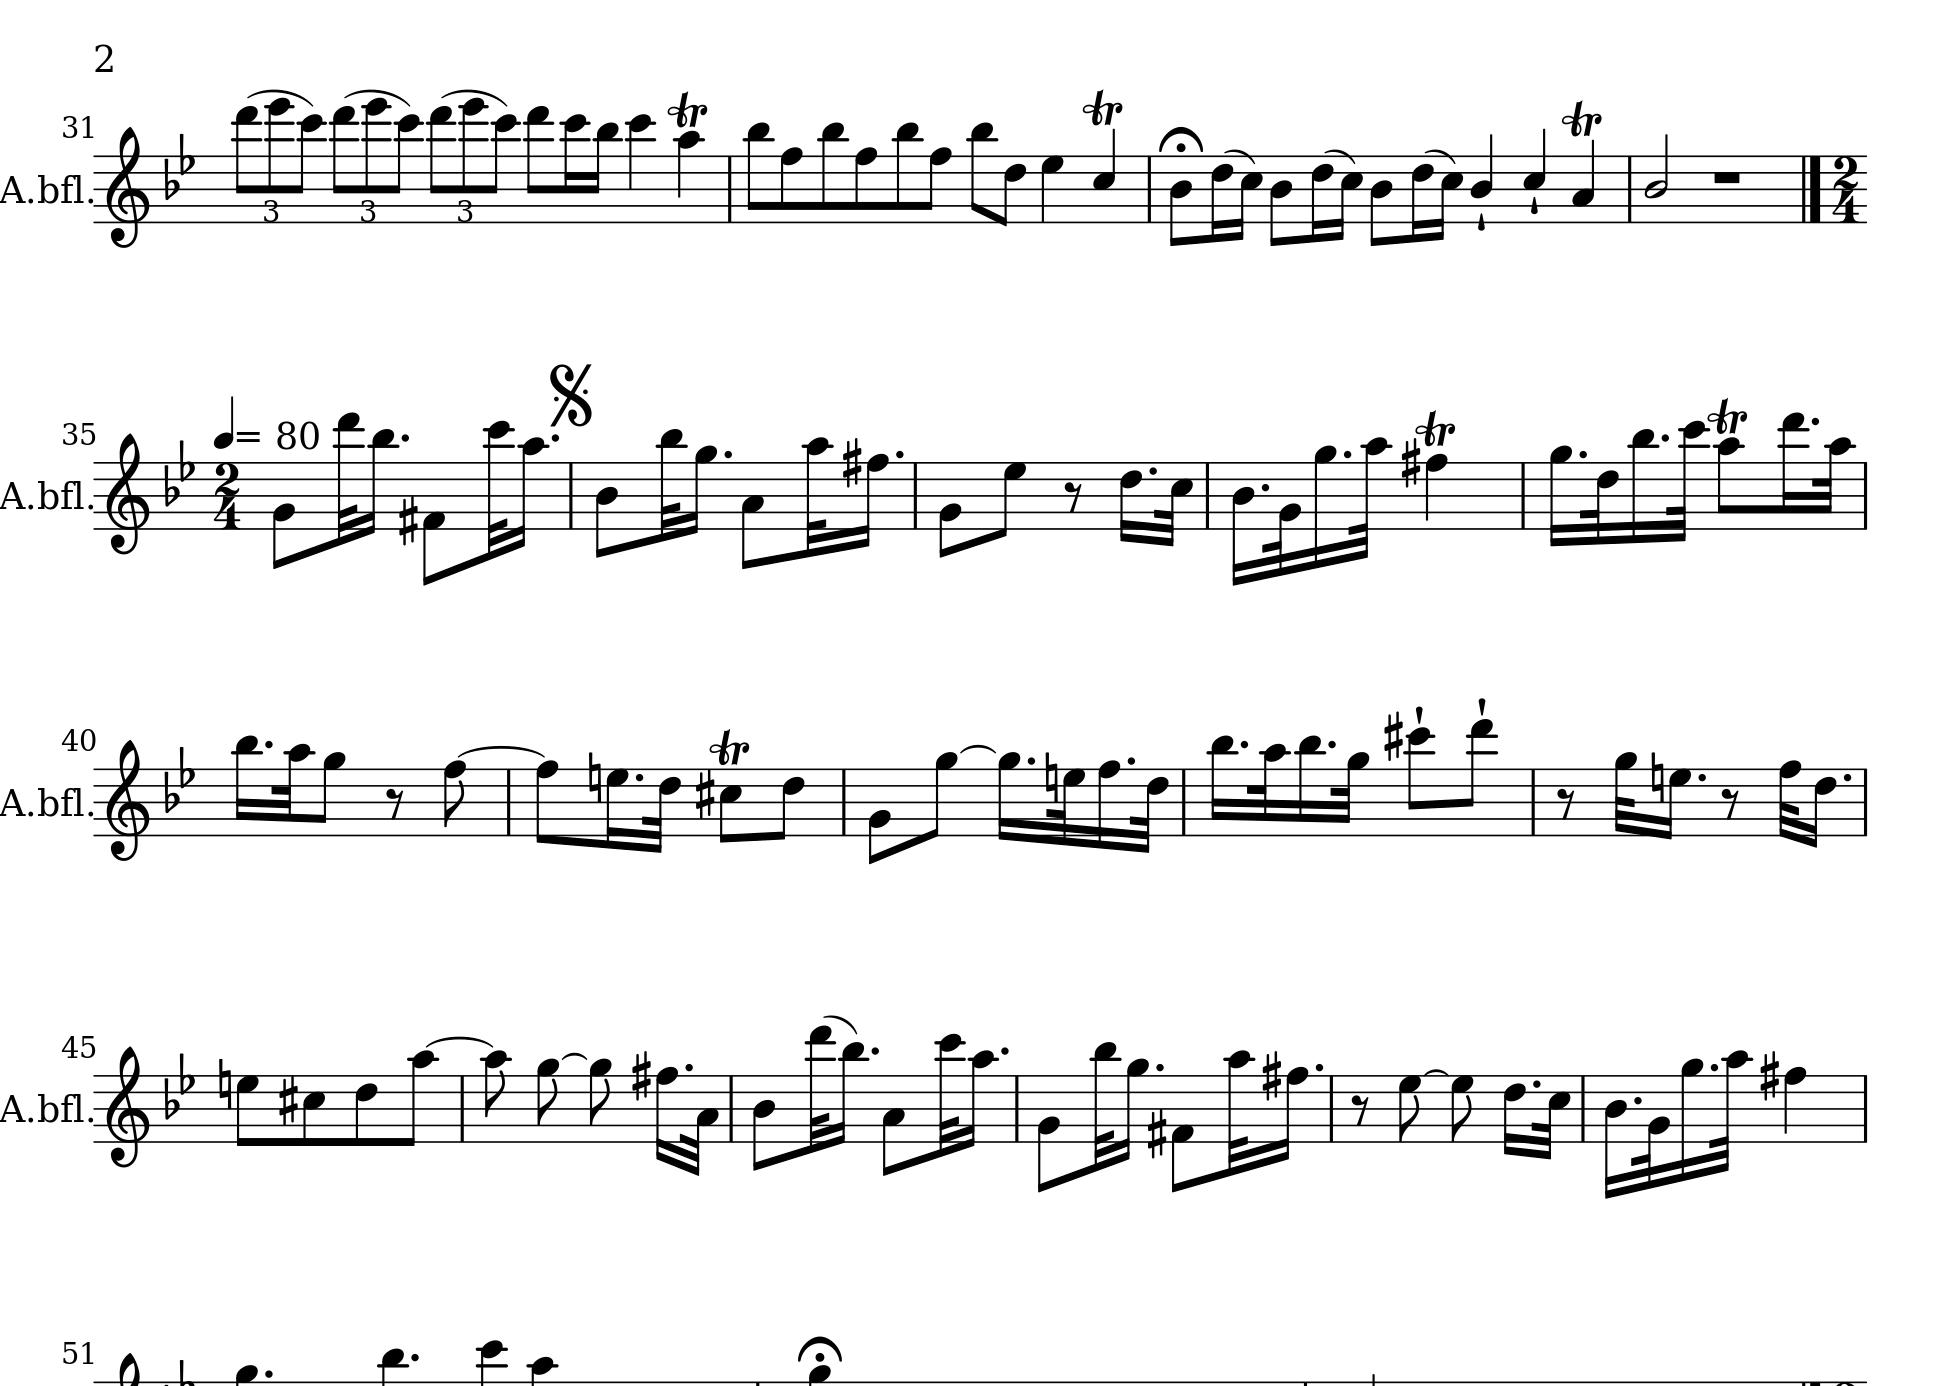0: (297, 418, 321, 451), (79, 724, 97, 753)
1: (79, 1338, 94, 1366), (79, 112, 94, 139)
16_10: (511, 435, 546, 549), (963, 1048, 997, 1150)
16_11: (363, 427, 394, 537), (1629, 426, 1657, 544), (834, 1039, 865, 1146), (589, 121, 621, 225), (1207, 733, 1236, 838), (232, 733, 261, 837), (1296, 732, 1323, 838)
16_12: (561, 112, 589, 223)
16_13: (1779, 411, 1806, 531)
16_4: (1230, 459, 1257, 586), (1603, 1072, 1629, 1198)
16_5: (1434, 154, 1464, 241), (1335, 153, 1363, 241), (1234, 154, 1263, 241)
16_6: (1807, 766, 1837, 849), (1311, 153, 1335, 243), (1410, 153, 1434, 243), (1119, 459, 1143, 544), (1210, 153, 1233, 243), (1503, 1072, 1527, 1156)
16_7: (1660, 766, 1692, 841), (604, 765, 630, 852)
16_8: (853, 453, 889, 549), (1275, 1066, 1308, 1162), (654, 1066, 679, 1162), (1096, 759, 1122, 850)
16_9: (1116, 1054, 1149, 1165), (1680, 1054, 1705, 1182), (1312, 444, 1338, 568), (685, 442, 718, 535), (1548, 442, 1573, 547), (996, 750, 1021, 841)
2: (1831, 153, 1864, 190), (91, 42, 115, 72)
2_4: (1644, 132, 1669, 223)
3: (261, 196, 280, 223), (454, 198, 474, 223), (60, 112, 78, 139), (358, 198, 376, 223), (60, 420, 78, 445)
32_10: (1350, 433, 1389, 562), (1713, 1048, 1749, 1174), (1818, 433, 1857, 532), (1251, 741, 1290, 838), (274, 742, 313, 838), (1224, 1047, 1252, 1177), (802, 433, 831, 559)
32_11: (1092, 1039, 1119, 1171), (334, 412, 358, 544), (658, 427, 684, 541)
32_12: (1668, 420, 1710, 541), (484, 421, 511, 561), (934, 1033, 964, 1156)
32_13: (805, 1024, 832, 1153)
32_2: (1263, 459, 1302, 577), (1632, 1072, 1671, 1189)
32_3: (687, 1072, 720, 1177)
32_5: (1155, 462, 1195, 547), (1533, 1074, 1573, 1159)
32_6: (1582, 460, 1620, 546), (645, 766, 681, 853), (1134, 766, 1170, 853)
32_7: (1050, 766, 1086, 847)
32_8: (1779, 757, 1801, 841)
32_9: (1335, 748, 1369, 838), (1612, 748, 1638, 838)
4: (210, 493, 243, 529), (1831, 189, 1864, 222), (60, 726, 79, 753), (60, 1033, 78, 1060)
4_10: (673, 129, 703, 223)
4_12: (625, 112, 655, 223)
4_3: (1570, 136, 1596, 223)
4_4: (1470, 130, 1494, 228)
4_5: (1092, 126, 1116, 225), (1522, 126, 1546, 223)
4_7: (1041, 153, 1066, 225)
4_8: (1425, 451, 1447, 532), (1783, 1063, 1806, 1144)
5: (61, 1336, 78, 1366), (78, 418, 96, 445), (79, 1032, 96, 1059)
8: (211, 459, 241, 496), (274, 417, 297, 451)
8_1: (420, 460, 447, 586), (1170, 1072, 1195, 1194)
8_10: (399, 1050, 436, 1149), (481, 1048, 511, 1144), (1716, 436, 1743, 532)
8_11: (892, 120, 922, 225), (967, 120, 997, 225), (819, 120, 847, 225), (745, 120, 772, 225)
8_12: (487, 109, 519, 225), (294, 109, 325, 223), (391, 109, 421, 223), (1407, 724, 1435, 835)
8_13: (1459, 715, 1498, 837), (523, 103, 552, 226), (231, 103, 259, 225), (427, 103, 454, 225), (331, 103, 357, 225)
8_14: (265, 99, 292, 223), (460, 100, 487, 223), (363, 100, 388, 223)
8_2: (1035, 1072, 1060, 1194), (270, 459, 295, 571), (865, 765, 892, 865), (937, 460, 963, 559)
8_3: (739, 459, 765, 571), (880, 1072, 906, 1177)
8_4: (592, 460, 619, 561), (751, 1072, 777, 1173), (1167, 153, 1194, 247), (1269, 153, 1293, 247), (1369, 153, 1393, 247)
8_5: (717, 766, 742, 844), (301, 1072, 325, 1147)
8_6: (772, 766, 805, 841), (997, 154, 1027, 226), (352, 1072, 378, 1147)
8_7: (993, 460, 1027, 538), (234, 1072, 259, 1147), (1449, 1072, 1474, 1141), (1398, 1072, 1422, 1143)
8_8: (922, 145, 952, 223), (535, 757, 559, 846), (442, 759, 468, 838), (778, 145, 802, 225), (853, 145, 877, 225)
8_9: (924, 751, 958, 838), (316, 751, 346, 837), (535, 1057, 562, 1144), (586, 1057, 613, 1144)
B_F: (162, 438, 196, 505), (163, 129, 196, 199), (163, 742, 196, 813), (163, 1050, 196, 1119)
Fermata_above: (795, 1333, 844, 1365), (1158, 124, 1204, 153)
Final_barline: (1800, 154, 1825, 222)
Gclef: (103, 736, 151, 861), (103, 430, 150, 555), (103, 1042, 150, 1167), (103, 124, 150, 247)
Natural: (586, 750, 603, 807), (216, 1057, 232, 1111), (1650, 750, 1665, 804), (1044, 751, 1059, 804)
Rests1: (1708, 166, 1746, 187)
Rests8: (1719, 784, 1741, 820), (1063, 478, 1084, 514), (384, 784, 405, 820), (1555, 784, 1576, 820), (1350, 1092, 1371, 1126)
Segno: (543, 358, 597, 430)
Sharp: (276, 1074, 300, 1126), (630, 1048, 652, 1102), (397, 493, 418, 547), (1401, 436, 1422, 490), (1261, 1048, 1282, 1102), (1759, 1048, 1780, 1102), (841, 436, 862, 489), (694, 768, 715, 820), (1383, 709, 1404, 762), (1146, 1107, 1167, 1159)
Single_barline: (1857, 766, 1875, 835), (1857, 460, 1875, 528), (1515, 462, 1533, 528), (835, 768, 852, 835), (721, 156, 738, 222), (562, 462, 579, 528), (501, 769, 517, 835), (1176, 769, 1192, 835), (723, 1075, 739, 1141), (1009, 1075, 1026, 1141), (1575, 1075, 1591, 1141), (1525, 769, 1542, 834), (1143, 154, 1158, 220), (1200, 462, 1215, 528), (1858, 1075, 1873, 1141), (1623, 156, 1638, 220), (907, 463, 922, 528), (1324, 1075, 1339, 1140), (454, 1077, 469, 1141)
Slur: (340, 87, 411, 108), (438, 87, 508, 108), (244, 87, 315, 106), (456, 744, 546, 759), (424, 1033, 493, 1050), (822, 1012, 859, 1036), (1324, 147, 1359, 165), (1224, 147, 1257, 165), (1425, 147, 1458, 163), (958, 742, 999, 754), (559, 1051, 589, 1062), (1422, 1068, 1450, 1077)
Speed4: (214, 393, 264, 451)
Speed_4=80: (208, 397, 324, 450)
Staccatissimo: (1413, 703, 1426, 726), (1476, 696, 1488, 715)
TimeSig: (1830, 154, 1863, 222), (213, 459, 241, 528)
Trill: (1707, 394, 1752, 436), (1416, 403, 1456, 450), (1560, 94, 1602, 138), (663, 91, 712, 127), (1081, 85, 1122, 127), (709, 724, 750, 766)
dot: (397, 430, 412, 445), (1237, 736, 1252, 751), (631, 769, 646, 784), (406, 1350, 421, 1365), (1659, 430, 1672, 445), (549, 430, 562, 445), (1575, 447, 1590, 460), (1146, 463, 1161, 477), (262, 736, 276, 751), (1326, 736, 1339, 751), (1840, 769, 1854, 784), (868, 1042, 882, 1057), (1530, 1075, 1543, 1090), (1695, 771, 1708, 784), (681, 1060, 694, 1074), (1153, 1060, 1167, 1074), (1707, 1060, 1720, 1074), (261, 1366, 274, 1380), (999, 1042, 1011, 1057), (1809, 414, 1821, 427), (721, 447, 733, 460), (1341, 447, 1353, 460), (1123, 754, 1137, 766), (892, 448, 904, 460), (1260, 480, 1272, 492), (1026, 754, 1038, 766), (1312, 1060, 1324, 1072), (1632, 1093, 1644, 1105)
